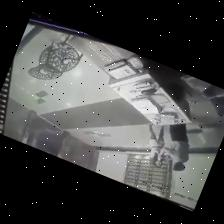person: (157, 123, 189, 170), (15, 25, 42, 55), (148, 123, 164, 166)
